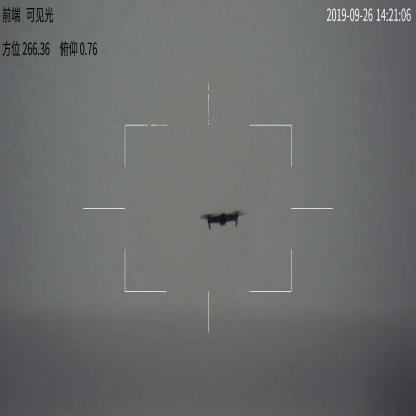uav: (197, 207, 244, 232)
